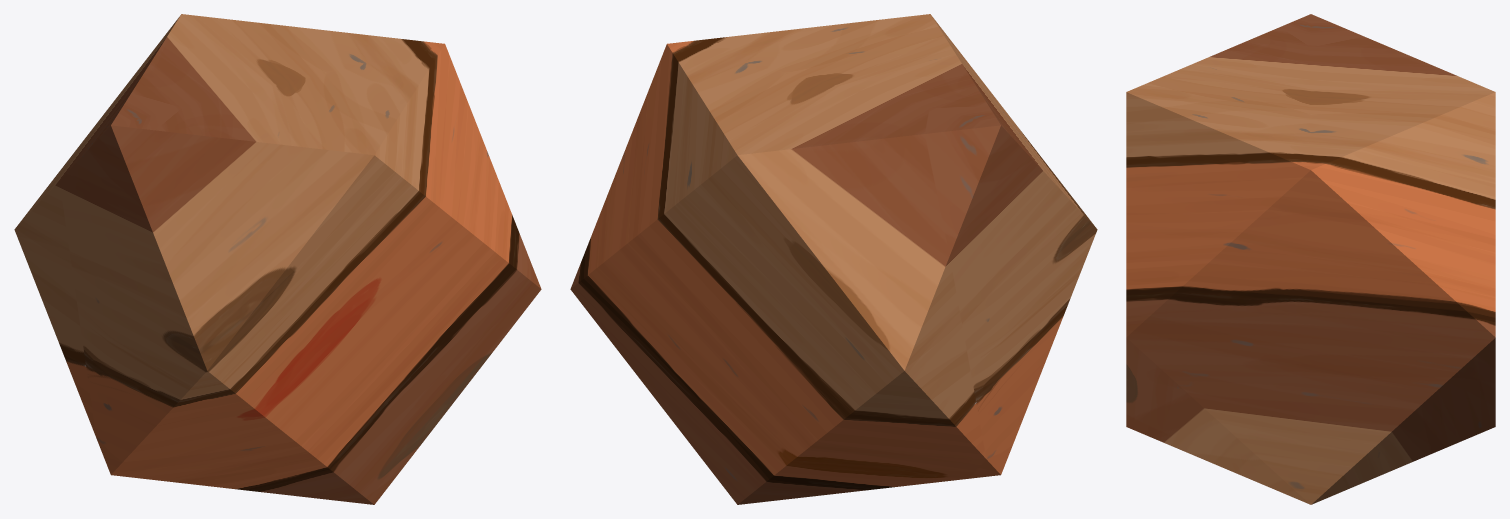
Rendered from Tile1_B.obj.
3 renders of one model, left to right at view 1: azimuth 30°, elevation 25°; view 2: azimuth 150°, elevation 25°; view 3: azimuth 270°, elevation 25°, orthographic. The views are drawn at different scales.
Parts seen in each view (by area): view 1: Cube; view 2: Cube; view 3: Cube.
Part boxes in pixels (x1,y1,x2,y2): Cube: (14, 14, 541, 504); Cube: (570, 14, 1097, 504); Cube: (1126, 14, 1495, 504).
Size of the model in its own units: 2 by 2 by 2.
1 material, 1 textured.
